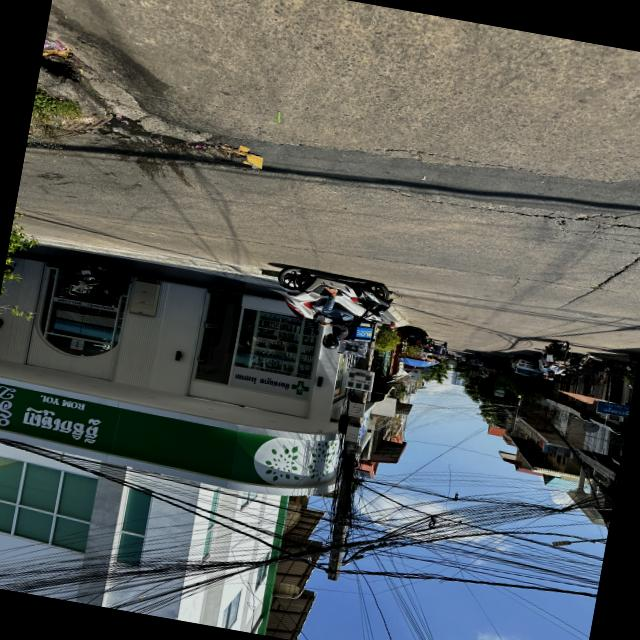1: (232, 372, 292, 392)
Yolov11kh: (16, 401, 107, 447)
